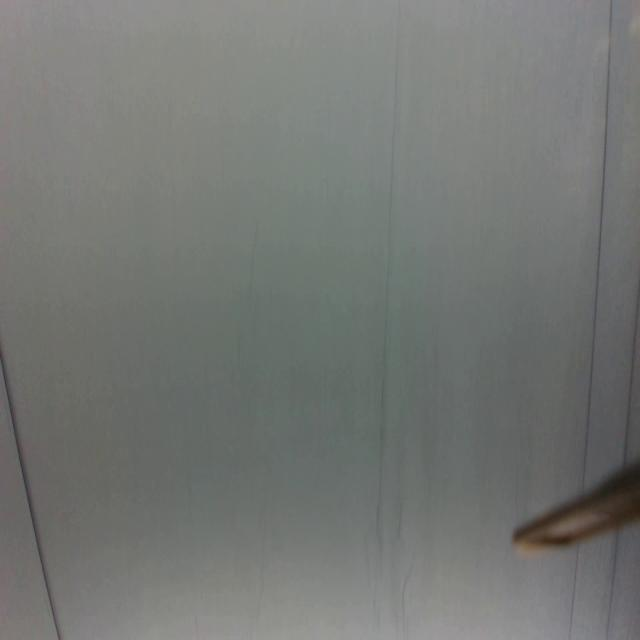crease: (370, 0, 401, 611), (0, 348, 62, 640), (583, 0, 612, 474), (622, 281, 640, 461), (602, 533, 624, 640), (566, 545, 581, 640)
